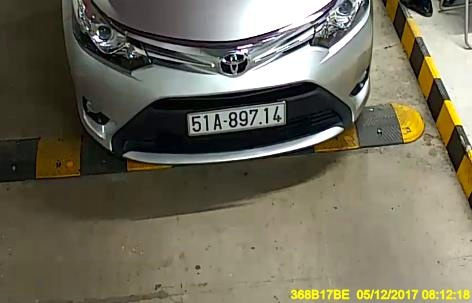plate: (184, 100, 287, 137)
